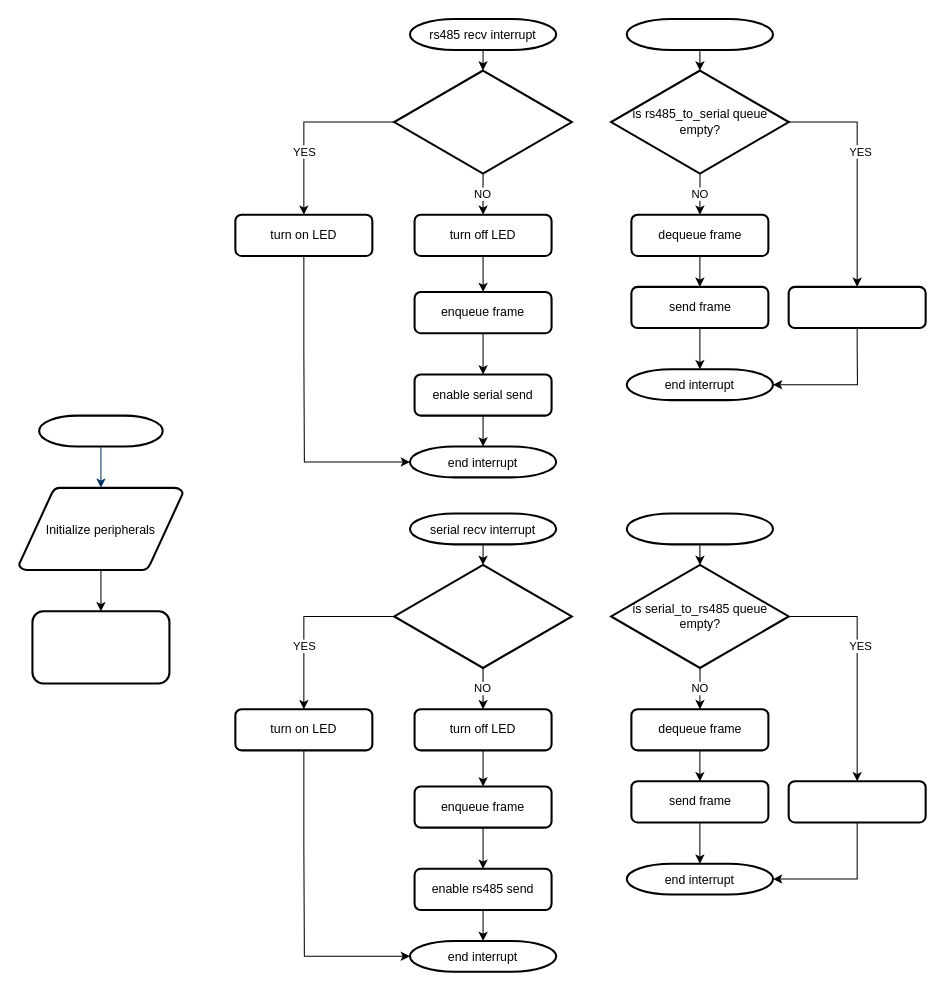
Some shapes in this 945 by 990 pixel diagram are drawn without their labels. The shapes that lost their labels are listed below. From the top down, each one's centre as x and y in pixels, then its label:
point (699, 34): serial send interrupt
point (482, 121): is rs485_to_serial queue full?
point (856, 307): disable serial send
point (100, 430): main start
point (699, 528): rs485 send interrupt
point (482, 615): is serial_to_rs485 queue full?
point (100, 647): while (true)
point (856, 801): disable rs485 send
